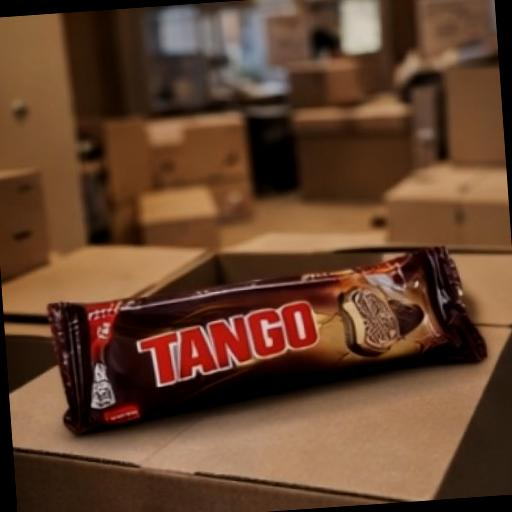tango: (29, 202, 506, 447)
